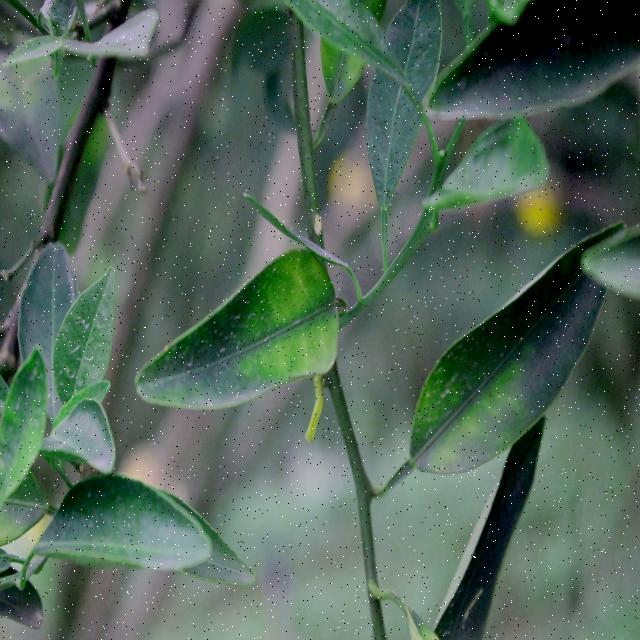greening: (178, 252, 338, 411), (406, 315, 546, 479)
